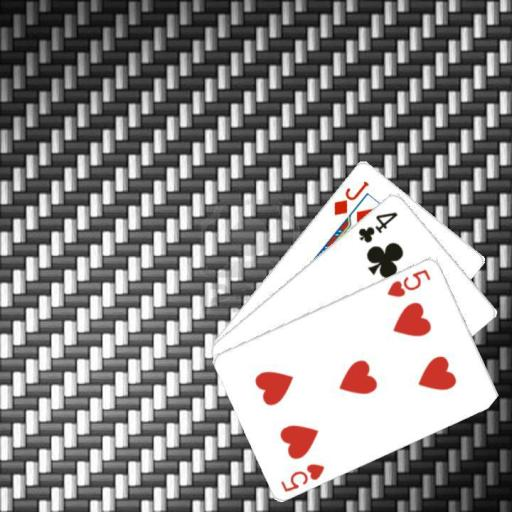4C: (355, 208, 400, 245)
5H: (278, 460, 327, 494), (384, 265, 432, 299)
JD: (330, 177, 370, 216)
